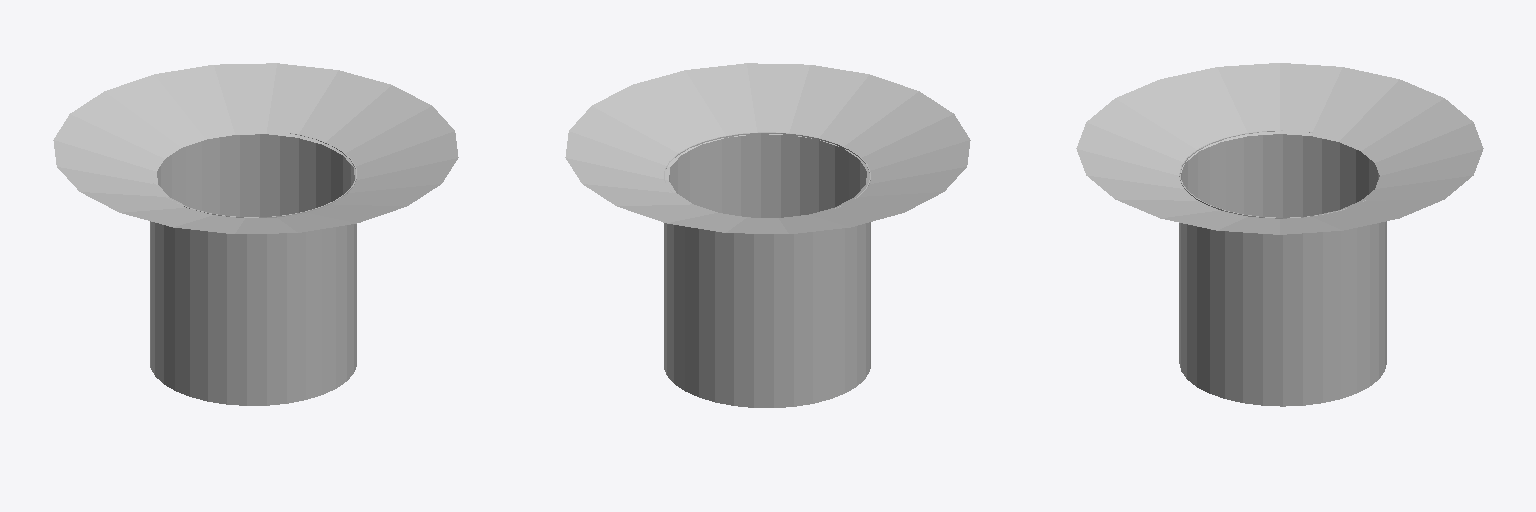
Rendered from golf delik.obj.
The picture shows the model from 3 angles: view 1: azimuth 30°, elevation 25°; view 2: azimuth 150°, elevation 25°; view 3: azimuth 270°, elevation 25°; orthographic projection.
Parts seen in each view (by area): view 1: Cylinder_Cylinder.001, Cone; view 2: Cylinder_Cylinder.001, Cone; view 3: Cylinder_Cylinder.001, Cone.
Boxes of the visible parts, box(x1,y1,x2,y2) form: Cylinder_Cylinder.001: box(150, 133, 356, 405); Cone: box(53, 63, 458, 233); Cylinder_Cylinder.001: box(664, 132, 870, 407); Cone: box(565, 63, 970, 233); Cylinder_Cylinder.001: box(1179, 130, 1386, 406); Cone: box(1076, 63, 1483, 234).
Size of the model in its own units: 3.92 by 2.27 by 3.92.